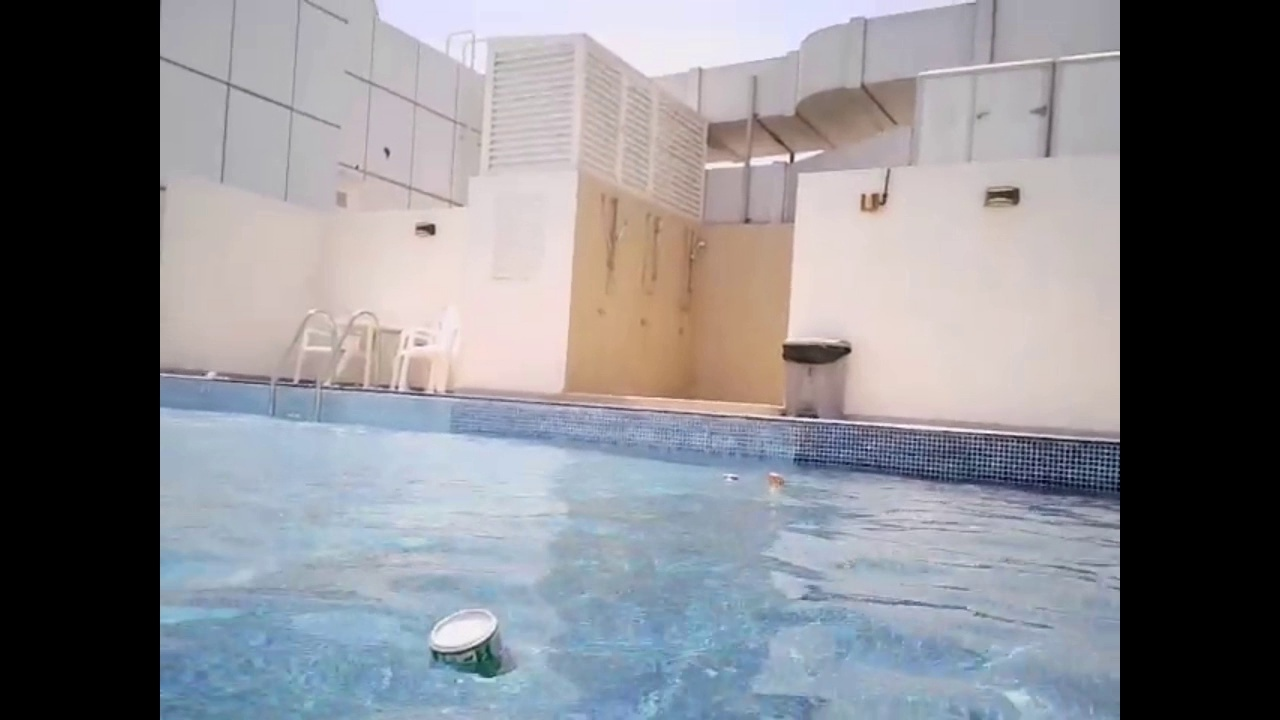debris: (420, 601, 516, 687), (761, 466, 786, 493), (718, 468, 742, 487)
